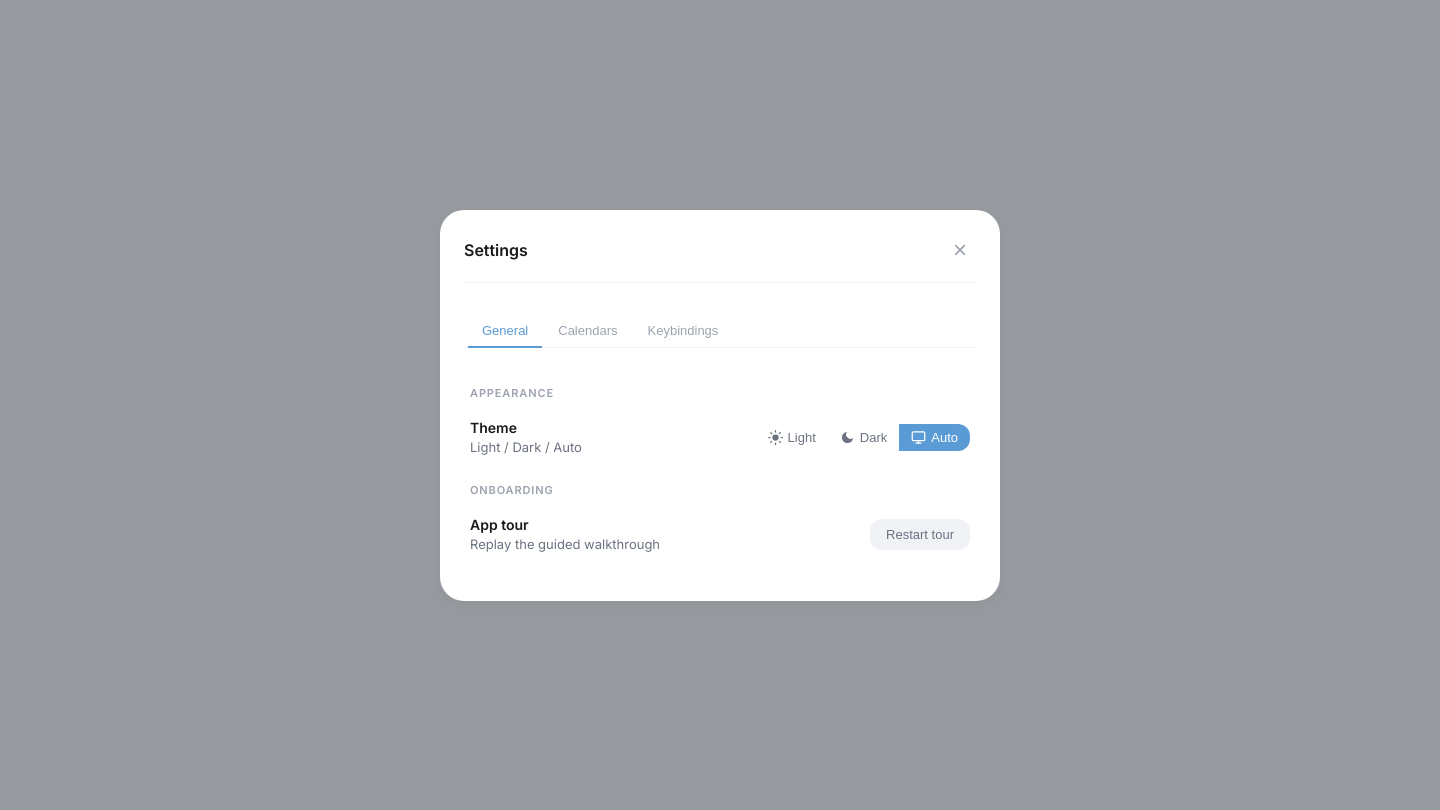
SettingsModal — tabs › switches to Calendars tab when clicked
Click the button "Calendars" at point(588, 331), box x1=544 y1=314 x2=632 y2=348
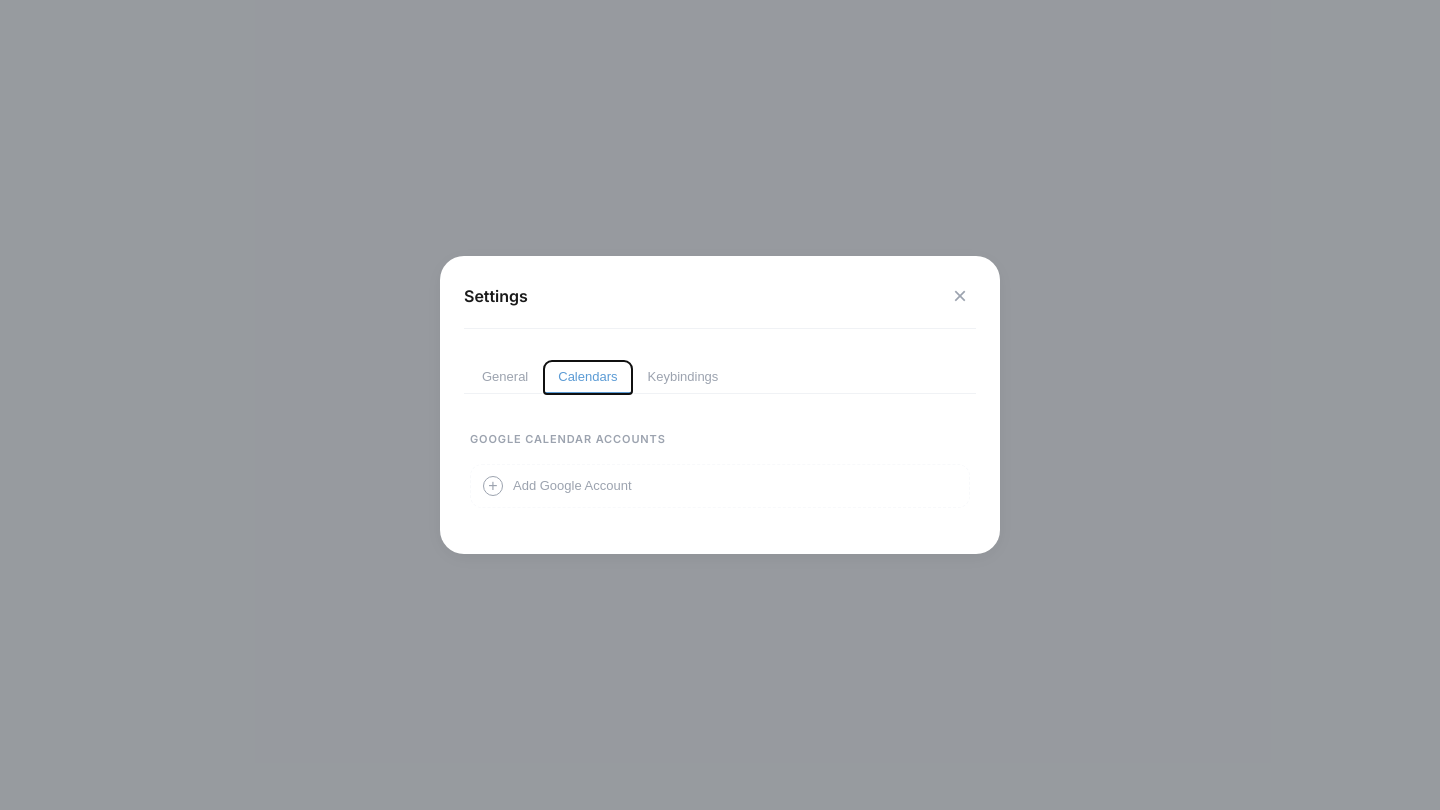
Expected: the text "Google Calendar Accounts" is shown, x1=470 y1=432 x2=666 y2=446
